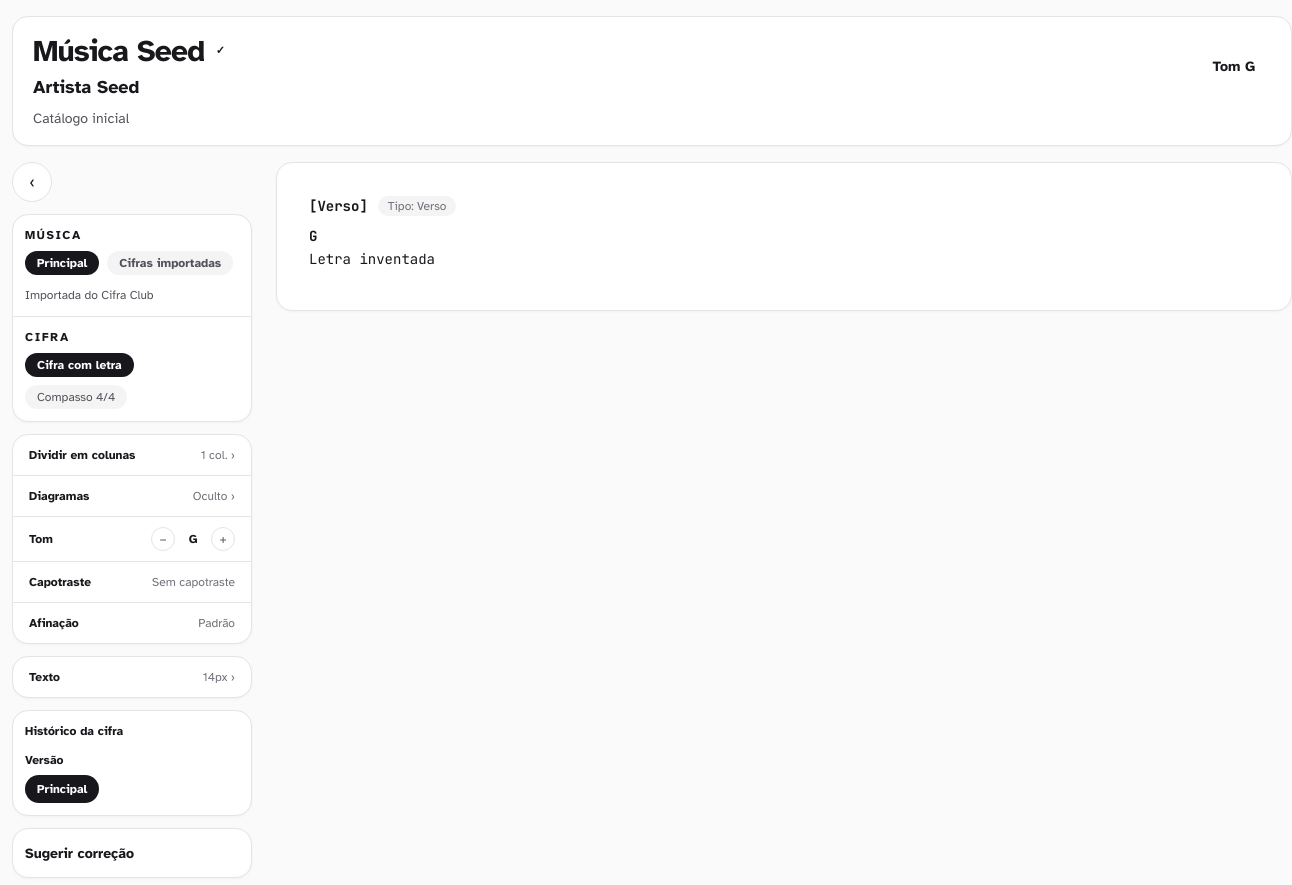
Test: SongDetail › loads a seed song and replaces demos with persisted charts
Expected: the heading "Música Seed" is shown, x1=33 y1=33 x2=204 y2=69
Expected: the text "Cifras importadas" is shown, x1=107 y1=251 x2=233 y2=275
Step 1. Click the button named "Aumentar meio-tom" → (223, 538), box x1=211 y1=526 x2=235 y2=550
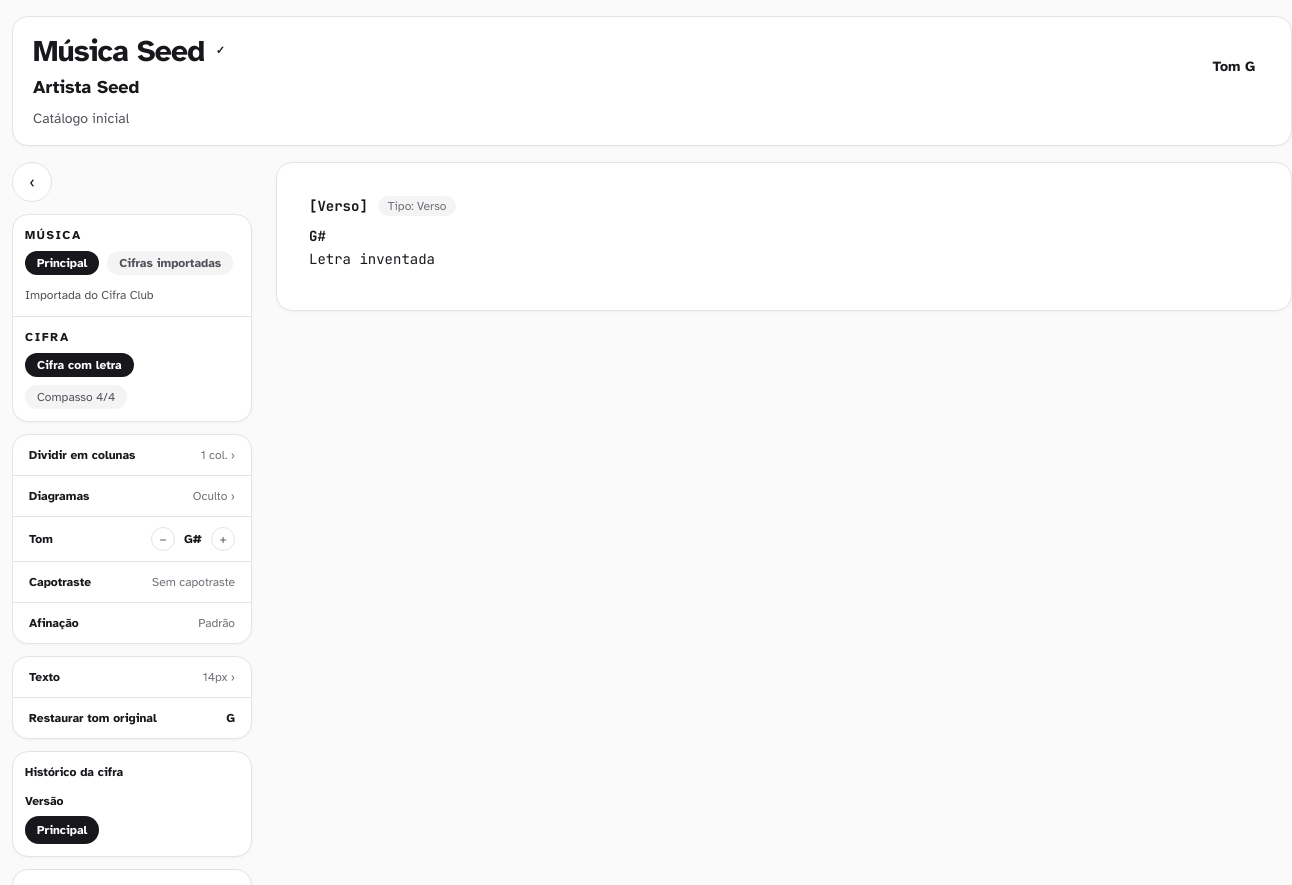
Expected: the text with class "music-chords" reads "G#", x1=309 y1=227 x2=326 y2=245
